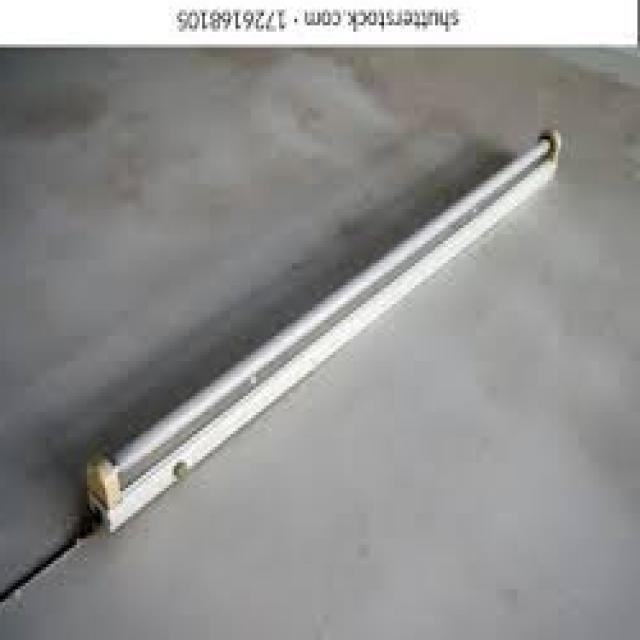light: (82, 124, 562, 534)
